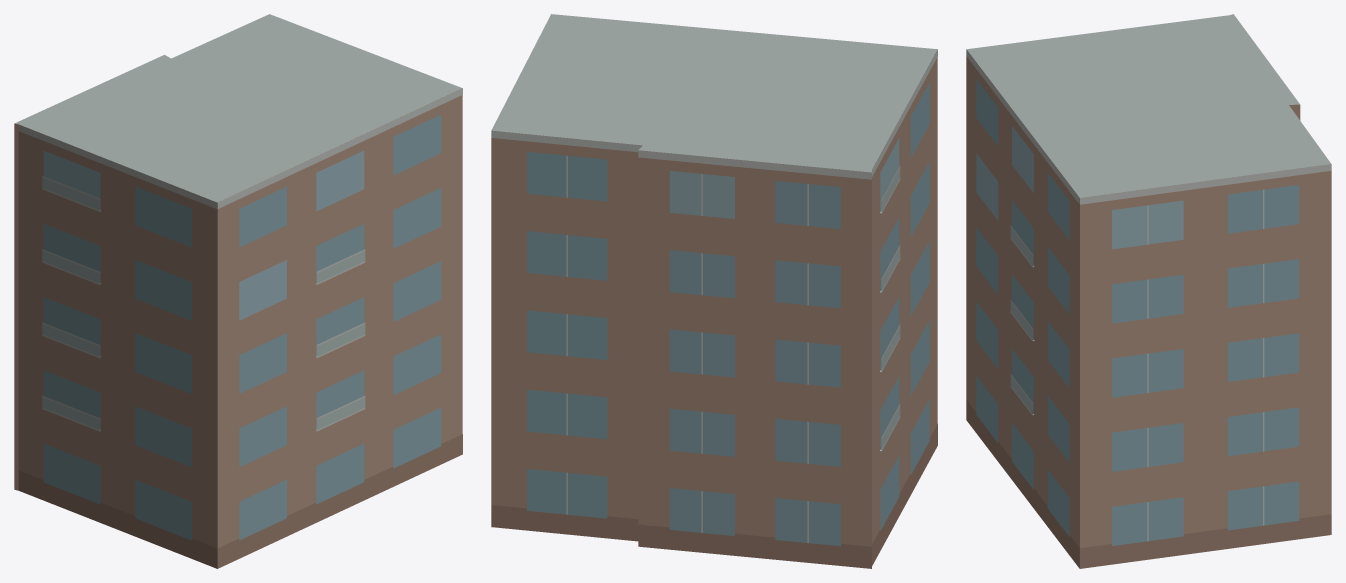
The model's file is survey-upis-32678082.glb.
3 renders of one model, left to right at view 1: azimuth 30°, elevation 25°; view 2: azimuth 150°, elevation 25°; view 3: azimuth 270°, elevation 25°, orthographic. The views are drawn at different scales.
Visible parts, largest first — view 1: survey-upis-32678082.tmp; view 2: survey-upis-32678082.tmp; view 3: survey-upis-32678082.tmp.
Boxes of the visible parts, x1,y1,x2,y2 form: survey-upis-32678082.tmp: (14, 14, 462, 568); survey-upis-32678082.tmp: (491, 14, 937, 568); survey-upis-32678082.tmp: (966, 14, 1331, 568).
Bounding box in the file's own units: 14.27 × 13.4 × 11.96.
